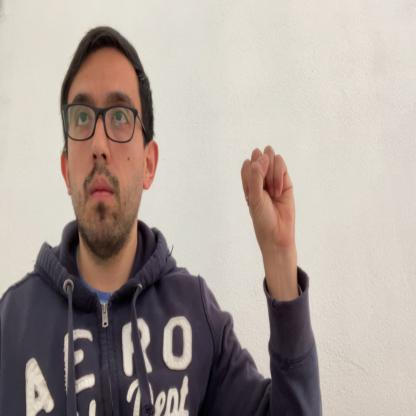S: (242, 146, 296, 250)
